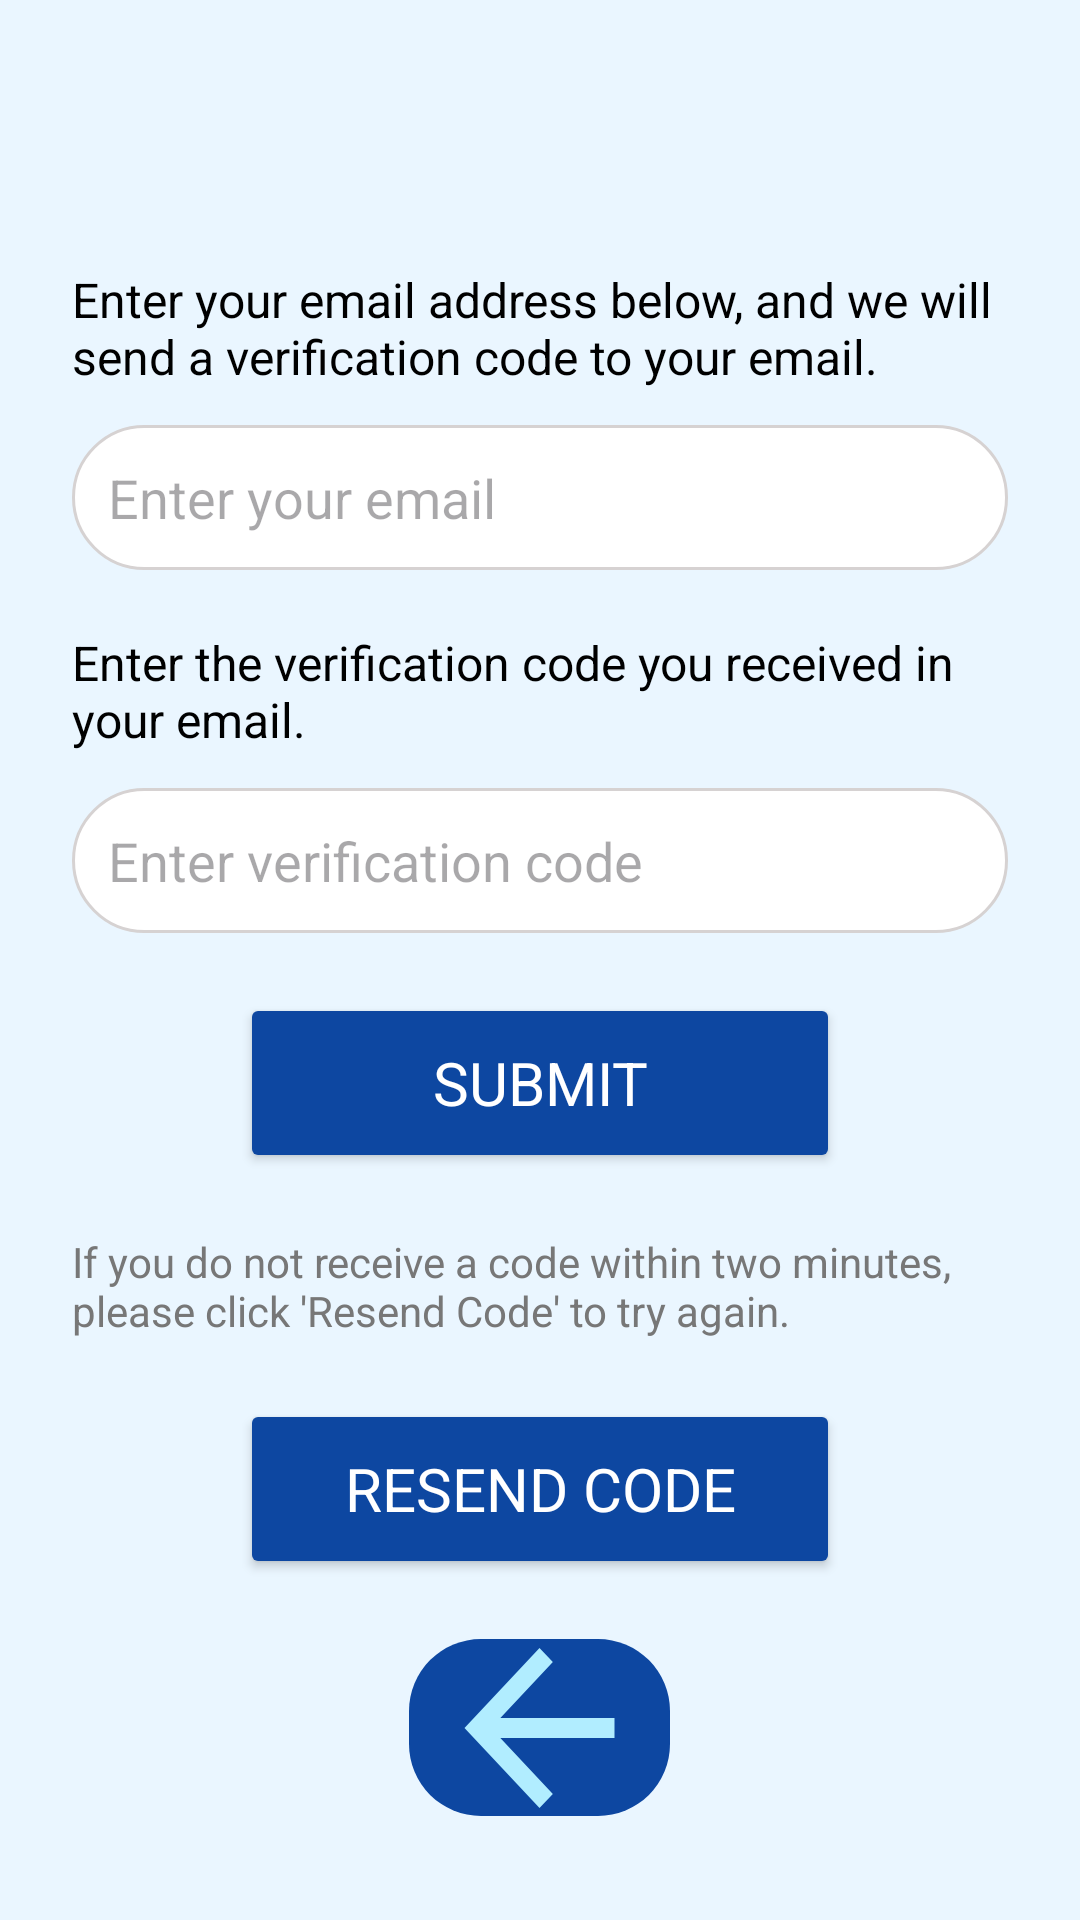

Icon click points for this 1080px x 1920px phone screenshot, format [x,y]:
arrow back: [539,1727]
